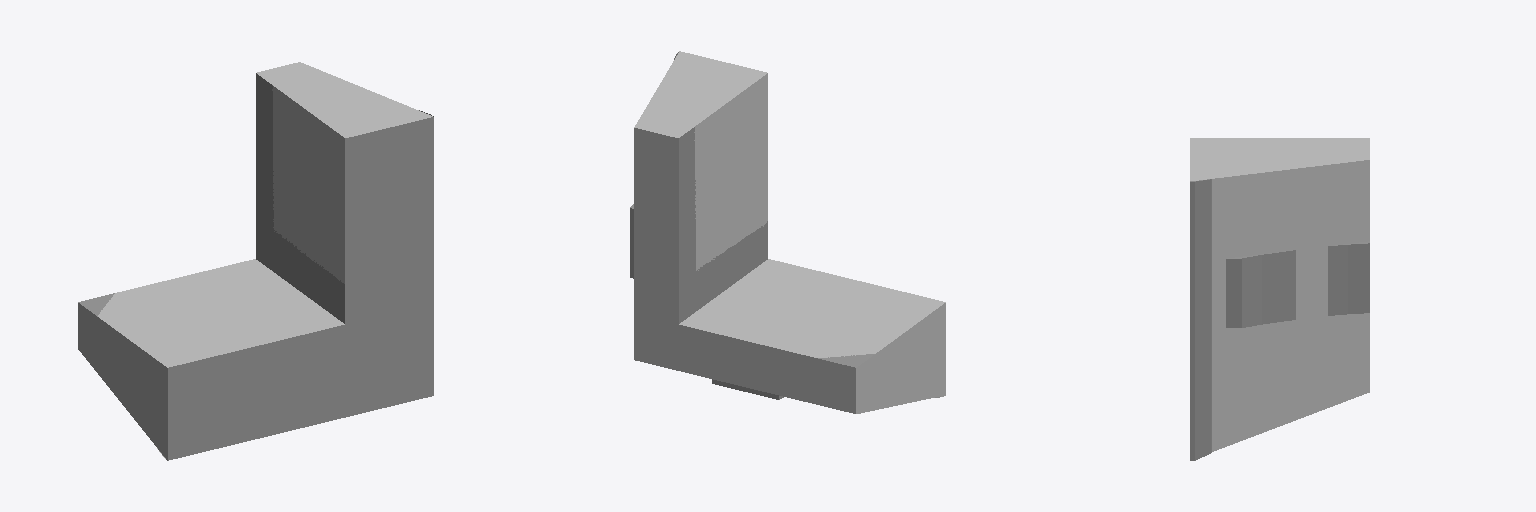
File: aucman_roof_trim_corner.obj
3 renders of one model, left to right at view 1: azimuth 30°, elevation 25°; view 2: azimuth 150°, elevation 25°; view 3: azimuth 270°, elevation 25°, orthographic.
Visible parts, largest first — view 1: g_g, c_c1, c_c2; view 2: c_c1, c_c2, g_g; view 3: c_c2, g_g.
Boxes of the visible parts, x1=… form: g_g: x1=78, y1=73, x2=433, y2=460; c_c1: x1=78, y1=259, x2=344, y2=460; c_c2: x1=257, y1=62, x2=432, y2=283; c_c1: x1=635, y1=259, x2=945, y2=413; c_c2: x1=634, y1=51, x2=767, y2=359; g_g: x1=630, y1=52, x2=945, y2=399; c_c2: x1=1190, y1=138, x2=1369, y2=451; g_g: x1=1190, y1=179, x2=1369, y2=460.
Size of the model in its own units: 120 by 120 by 70.